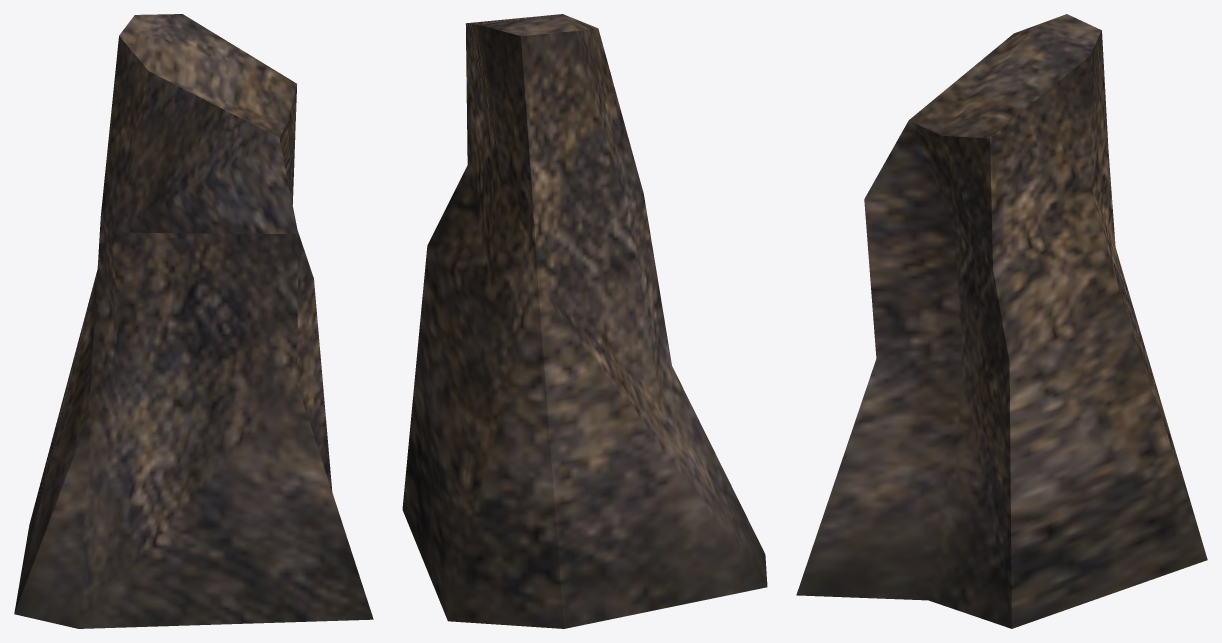
3 views of the same model, side by side, from view 1: azimuth 30°, elevation 25°; view 2: azimuth 150°, elevation 25°; view 3: azimuth 270°, elevation 25° (orthographic). The views are drawn at different scales.
Parts seen in each view (by area): view 1: wj23; view 2: wj23; view 3: wj23.
Boxes of the visible parts, x1,y1,x2,y2 form: wj23: (14,14,373,628); wj23: (402,14,767,628); wj23: (796,14,1207,628).
Size of the model in its own units: 228 by 339 by 242.
